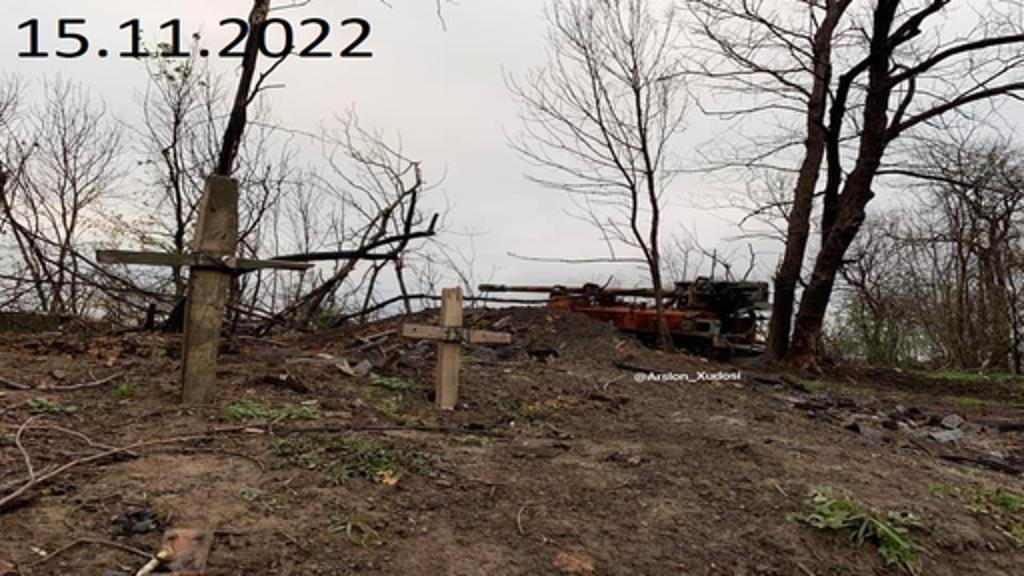ART: (466, 272, 790, 380)
